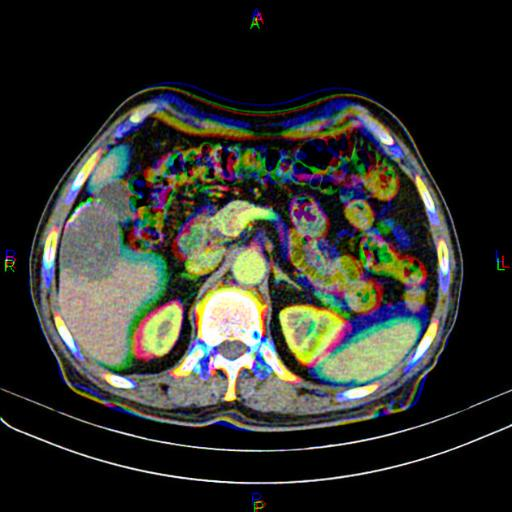Cyst: (60, 181, 129, 276)
